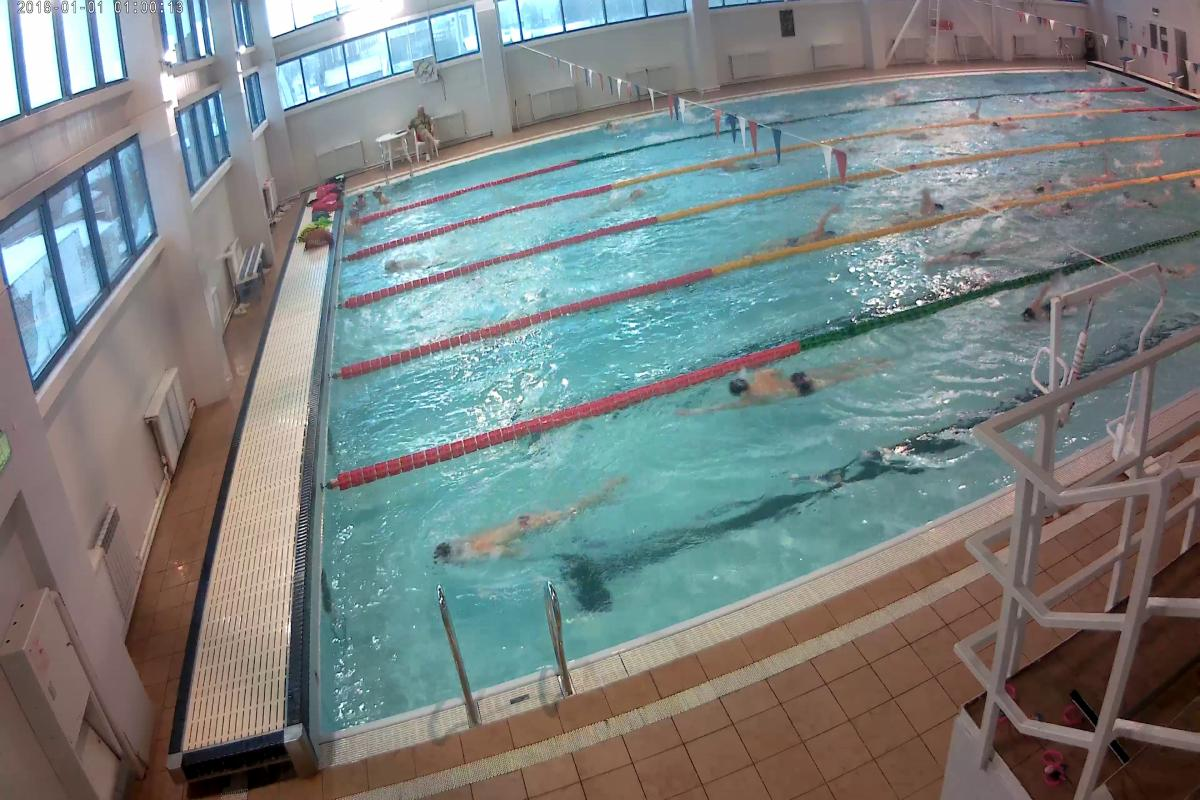swimmer: (687, 351, 868, 416), (438, 492, 617, 555), (769, 204, 854, 250), (910, 236, 1020, 266), (897, 184, 955, 222), (1022, 286, 1070, 325), (1035, 190, 1095, 219)
